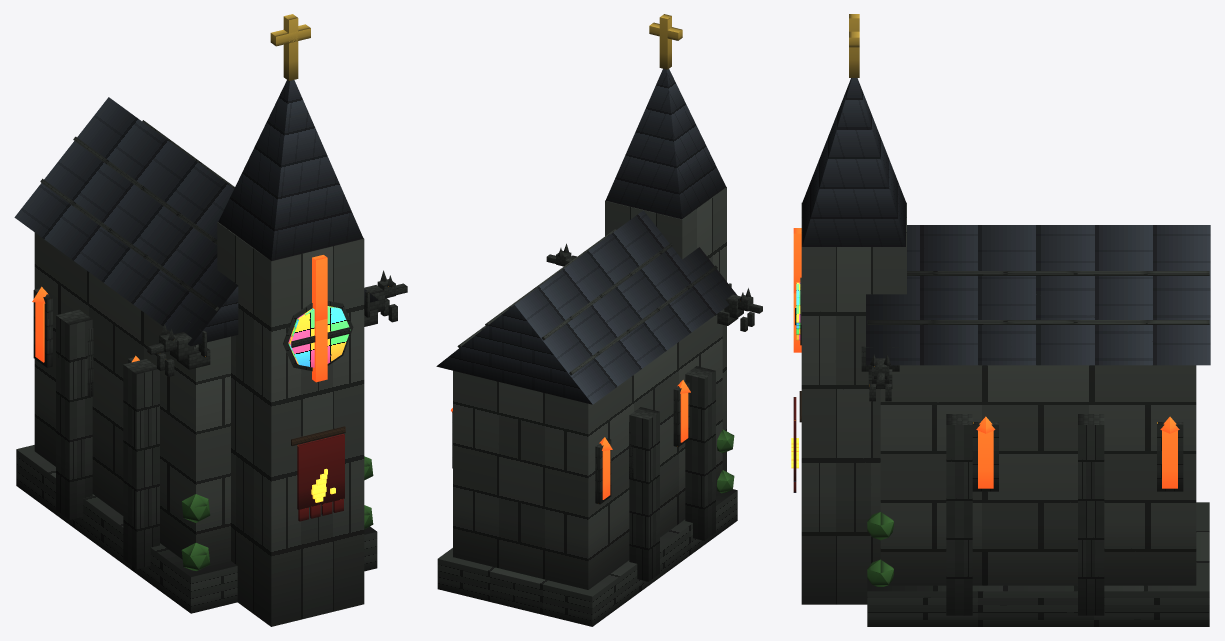
The model's file is cathedral.glb.
The picture shows the model from 3 angles, left to right: view 1: azimuth 30°, elevation 25°; view 2: azimuth 150°, elevation 25°; view 3: azimuth 270°, elevation 25°; orthographic projection. The views are drawn at different scales.
Visible parts, largest first — view 1: cathedral; view 2: cathedral; view 3: cathedral.
Part boxes in pixels (x1,y1,x2,y2): cathedral: (14, 14, 407, 626); cathedral: (436, 14, 762, 626); cathedral: (791, 14, 1210, 626).
Bounding box in the file's own units: 2.2 × 4.75 × 3.19.
Materials: 1 (1 with a texture image).
